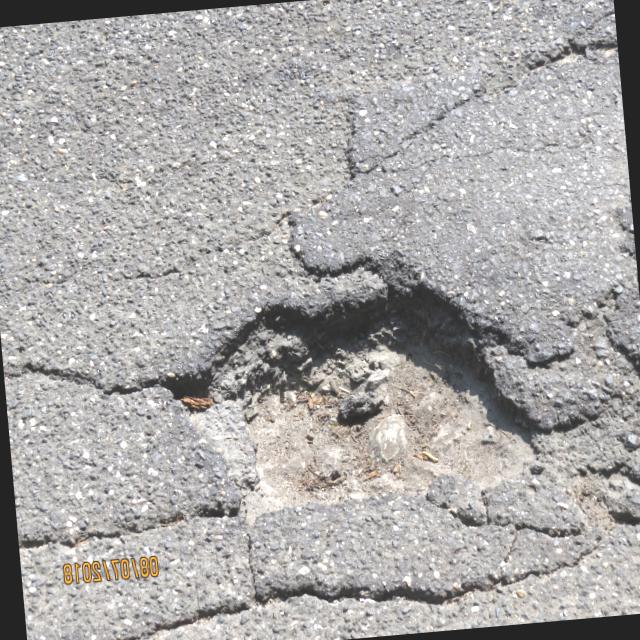bad-road: (150, 262, 544, 540), (529, 262, 640, 558)
